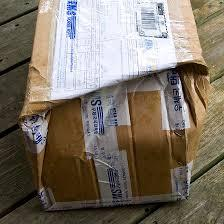damage_box: (17, 0, 212, 211)
